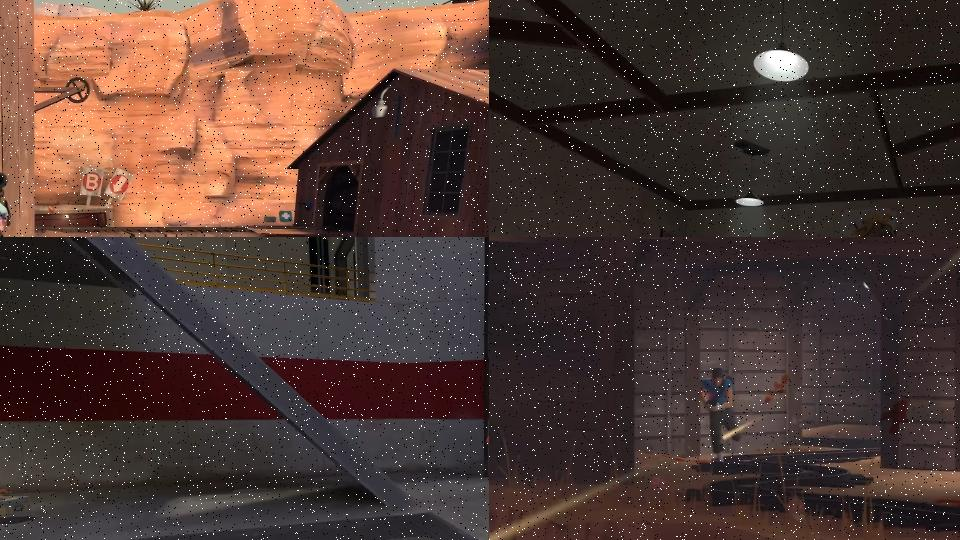Enemy: (693, 362, 752, 473), (0, 168, 22, 237)
